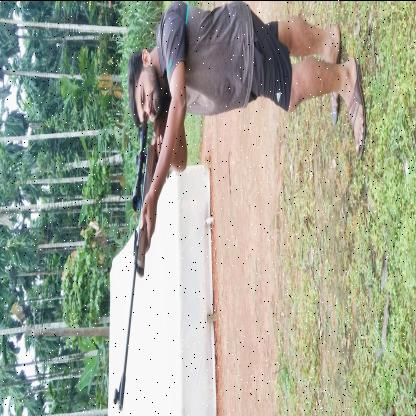rifle: (112, 94, 174, 412)
